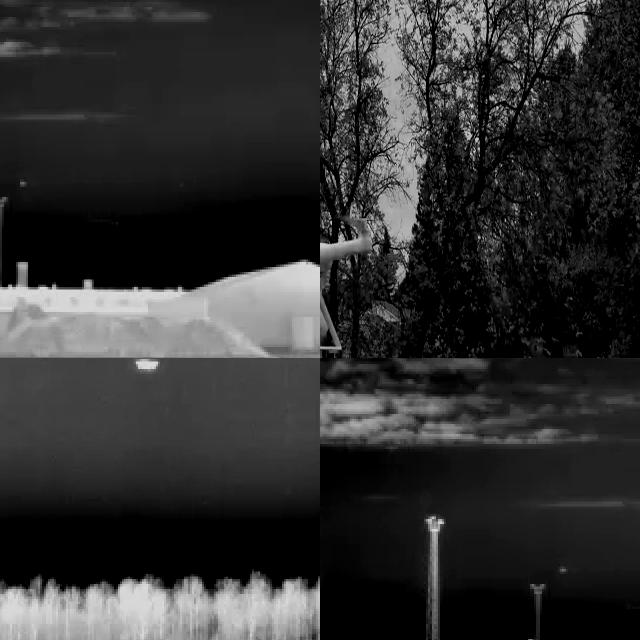0: (12, 174, 42, 200), (556, 559, 580, 587)
1: (127, 358, 171, 384)
drone: (320, 211, 372, 358)
